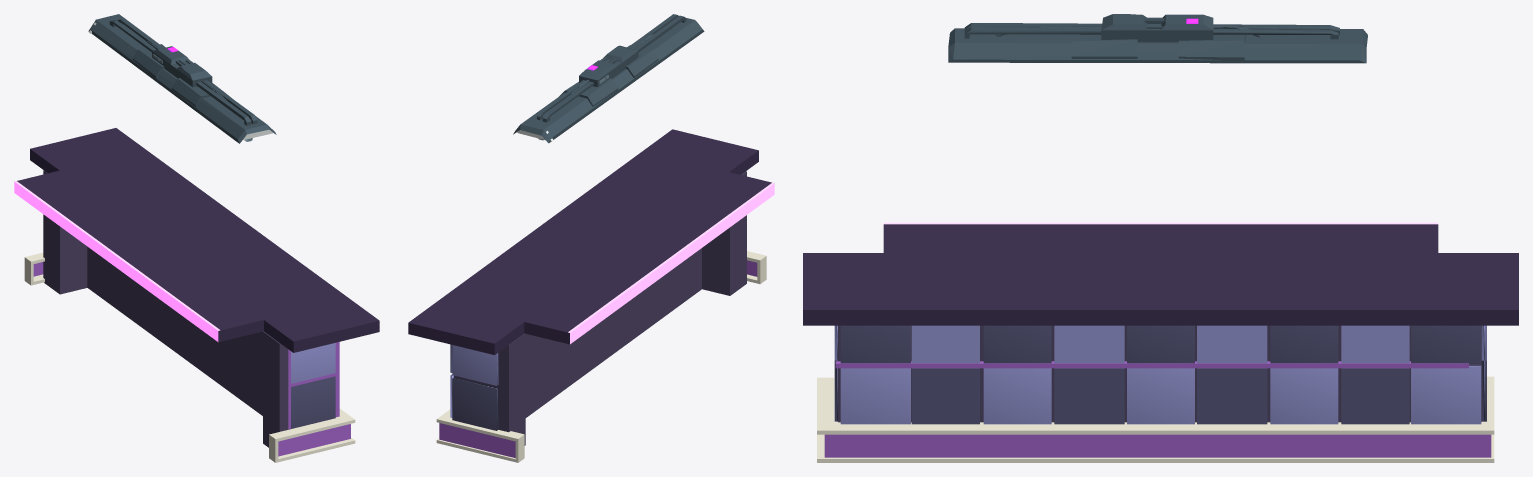
Rendered from compressed_Bar.glb.
3 renders of one model, left to right at view 1: azimuth 30°, elevation 25°; view 2: azimuth 150°, elevation 25°; view 3: azimuth 270°, elevation 25°, orthographic. The views are drawn at different scales.
Visible parts, largest first — view 1: Bar, BarWall, BarLight, warningFloorSign, Cube.010, Cube.018, Plane.018, Cube.005; view 2: Bar, BarWall, BarLight, Cube.011, warningFloorSign, Plane.018, Cube.021; view 3: Bar, Cube.002, BarLight, Plane.018, Cube.006, Cube.012, warningFloorSign, Cube.017, Cube.005, BarWall.
Boxes of the visible parts, x1,y1,x2,y2 form: Bar: (14, 128, 379, 352); BarWall: (43, 170, 334, 447); BarLight: (88, 14, 276, 143); warningFloorSign: (24, 252, 355, 462); Cube.010: (291, 376, 335, 428); Cube.018: (291, 343, 335, 383); Plane.018: (33, 262, 350, 456); Cube.005: (288, 342, 339, 429); Bar: (408, 129, 774, 354); BarWall: (454, 171, 746, 445); BarLight: (513, 14, 704, 143); Cube.011: (452, 377, 498, 430); warningFloorSign: (436, 251, 766, 462); Plane.018: (439, 260, 757, 457); Cube.021: (452, 345, 498, 385); Bar: (803, 222, 1518, 325); Cube.002: (840, 364, 1481, 424); BarLight: (948, 14, 1367, 63); Plane.018: (824, 434, 1491, 457); Cube.006: (911, 368, 1409, 424); Cube.012: (840, 325, 1481, 363); warningFloorSign: (817, 376, 1494, 462); Cube.017: (911, 325, 1409, 363); Cube.005: (835, 361, 1468, 368); BarWall: (838, 325, 1481, 422).
Bounding box in the file's own units: 2.41 × 5.35 × 8.36.
